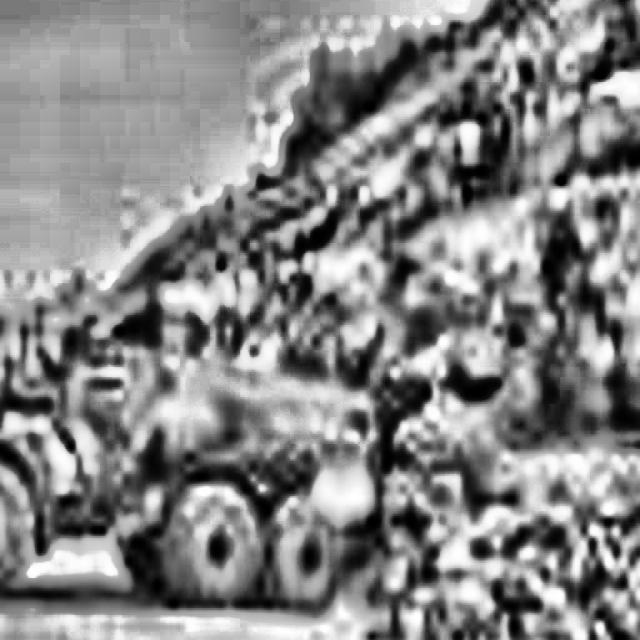dump_truck: (0, 264, 382, 635)
